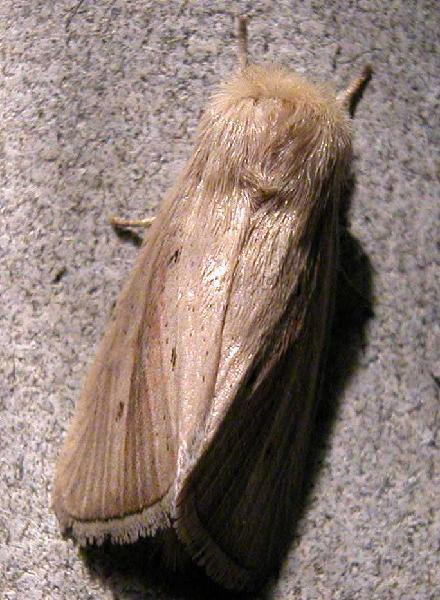Noctuidae: (50, 16, 373, 589)
